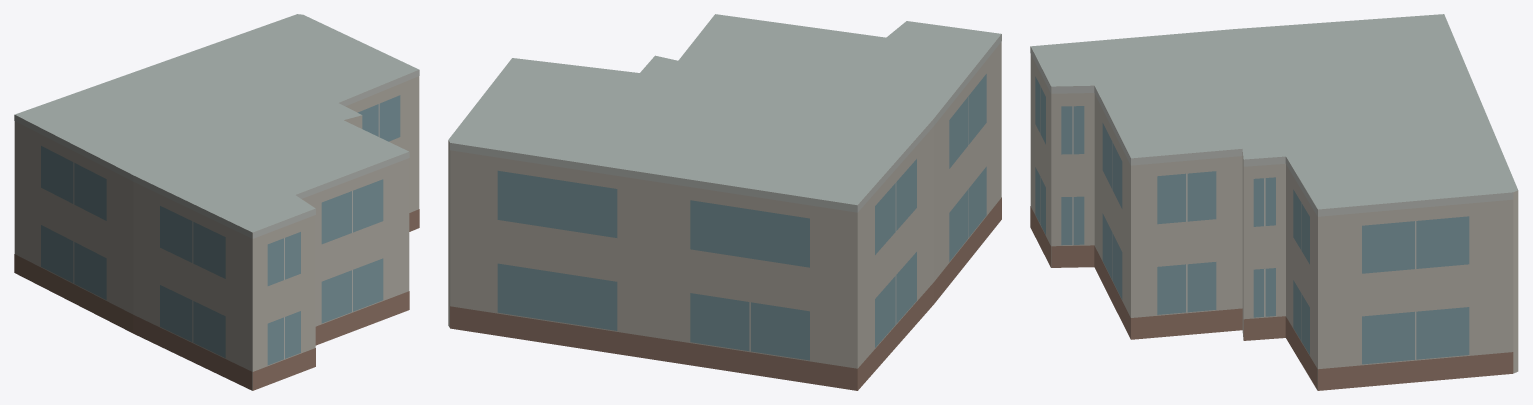
The model's file is survey-upis-32933332.glb.
3 views of the same model, side by side, from view 1: azimuth 30°, elevation 25°; view 2: azimuth 150°, elevation 25°; view 3: azimuth 270°, elevation 25° (orthographic). The views are drawn at different scales.
Parts seen in each view (by area): view 1: survey-upis-32933332.tmp; view 2: survey-upis-32933332.tmp; view 3: survey-upis-32933332.tmp.
Boxes of the visible parts, x1,y1,x2,y2 form: survey-upis-32933332.tmp: [14, 14, 419, 390]; survey-upis-32933332.tmp: [448, 14, 1001, 390]; survey-upis-32933332.tmp: [1030, 14, 1518, 390].
Bounding box in the file's own units: 14.11 × 6.1 × 14.88.
